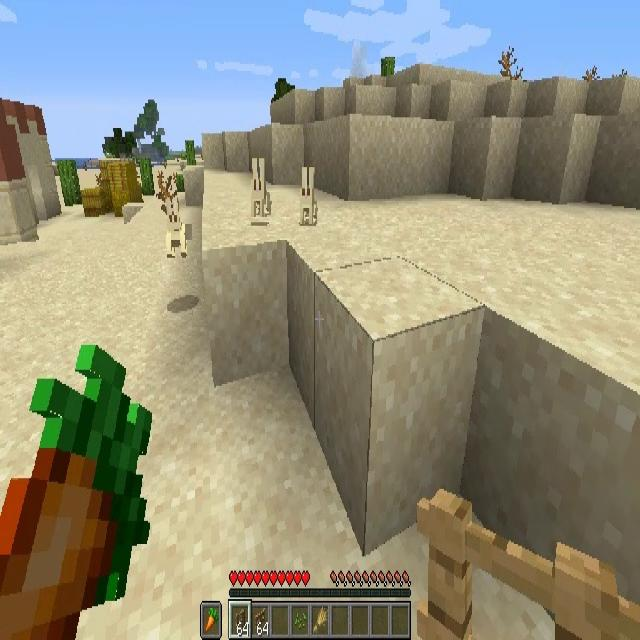rabbit: (248, 160, 273, 224), (165, 199, 185, 254), (299, 168, 317, 226)
